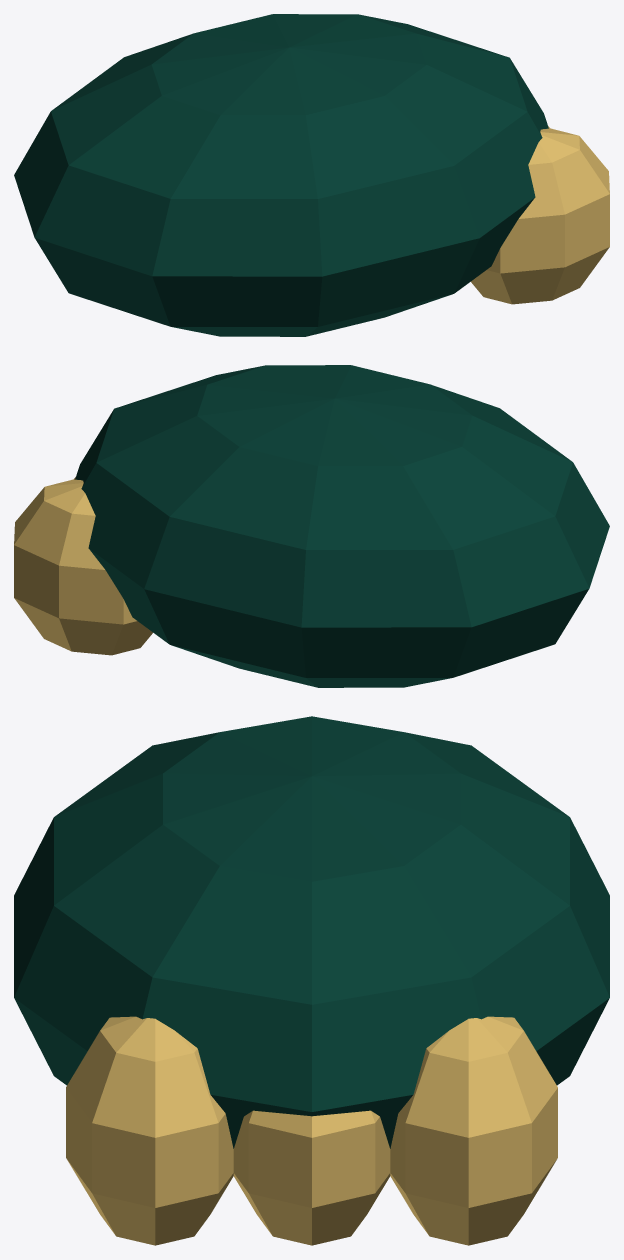
The model's file is SM_brachiosaurus_hind_r_Foot.fbx.
The picture shows the model from 3 angles, top to bottom: view 1: azimuth 30°, elevation 25°; view 2: azimuth 150°, elevation 25°; view 3: azimuth 270°, elevation 25°; orthographic projection. The views are drawn at different scales.
Visible parts, largest first — view 1: SM_brachiosaurus_hind_r_Foot export; view 2: SM_brachiosaurus_hind_r_Foot export; view 3: SM_brachiosaurus_hind_r_Foot export.
Boxes of the visible parts, left/top/right/bottom form: SM_brachiosaurus_hind_r_Foot export: left=14, top=14, right=609, bottom=336; SM_brachiosaurus_hind_r_Foot export: left=14, top=365, right=609, bottom=687; SM_brachiosaurus_hind_r_Foot export: left=14, top=716, right=609, bottom=1245.
Size of the model in its own units: 101 by 76.08 by 48.
